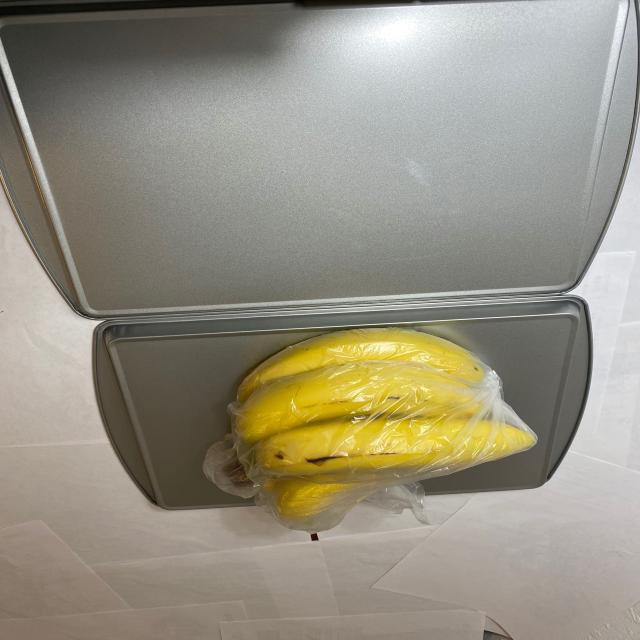banana: (224, 326, 544, 548)
